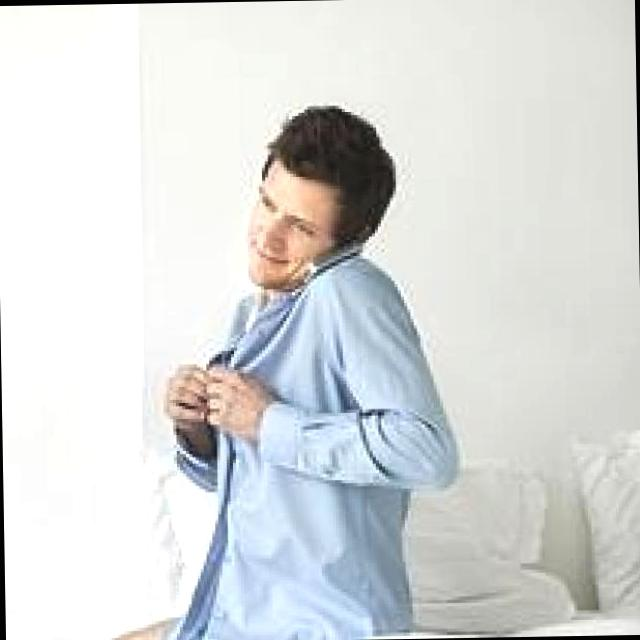no_vest: (164, 222, 456, 636)
